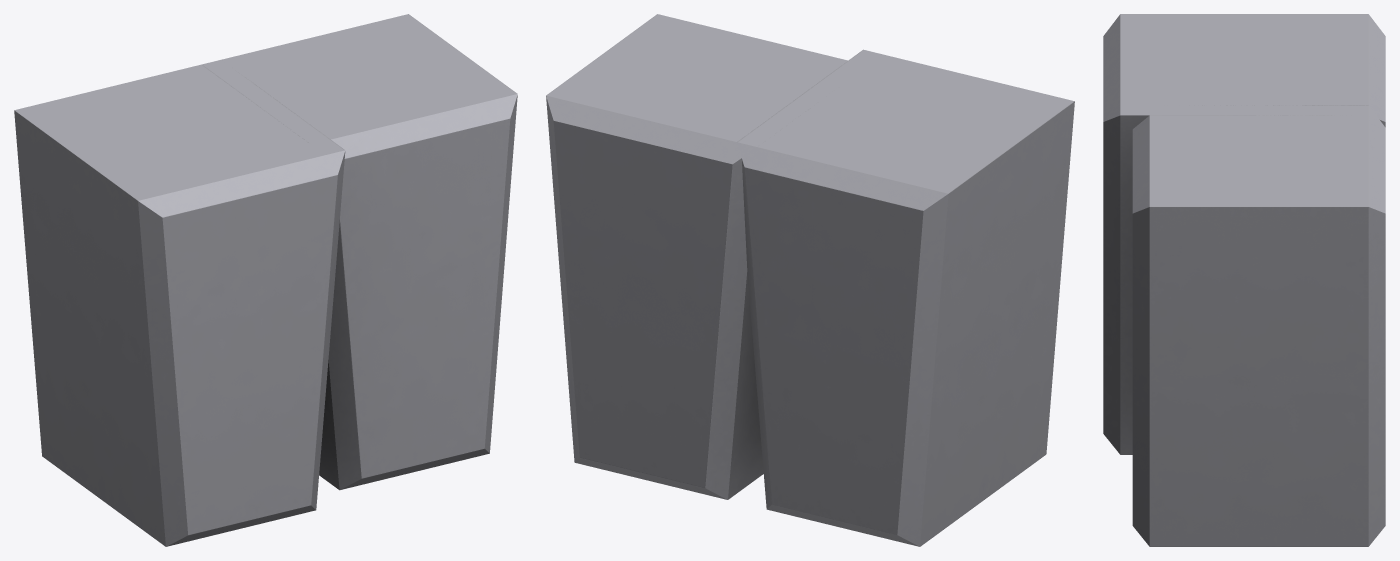
Rendered from Quotes.FBX.
3 renders of one model, left to right at view 1: azimuth 30°, elevation 25°; view 2: azimuth 150°, elevation 25°; view 3: azimuth 270°, elevation 25°, orthographic. The views are drawn at different scales.
Visible parts, largest first — view 1: Quotes; view 2: Quotes; view 3: Quotes.
Part boxes in pixels (bbox=[...]): Quotes: bbox=[14, 14, 517, 546]; Quotes: bbox=[546, 14, 1074, 546]; Quotes: bbox=[1103, 14, 1385, 546].
Size of the model in its own units: 53.32 by 45.59 by 33.
